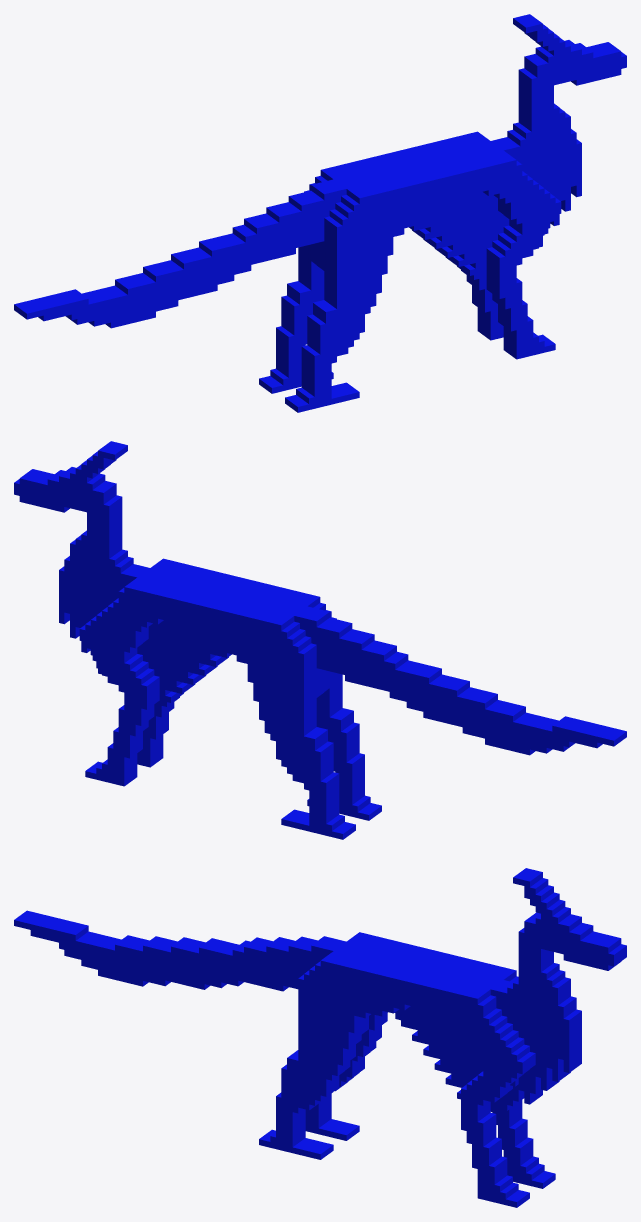
The model's file is Water_Immortal.gltf.
The picture shows the model from 3 angles, top to bottom: view 1: azimuth 30°, elevation 25°; view 2: azimuth 150°, elevation 25°; view 3: azimuth 330°, elevation 25°; orthographic projection.
Visible parts, largest first — view 1: Water_Immortal-Mesh; view 2: Water_Immortal-Mesh; view 3: Water_Immortal-Mesh.
Boxes of the visible parts, left/top/right/bottom form: Water_Immortal-Mesh: left=14, top=14, right=626, bottom=412; Water_Immortal-Mesh: left=14, top=441, right=626, bottom=839; Water_Immortal-Mesh: left=14, top=868, right=626, bottom=1207.
Bounding box in the file's own units: 53.5 × 27 × 6.
1 material, 1 textured.
